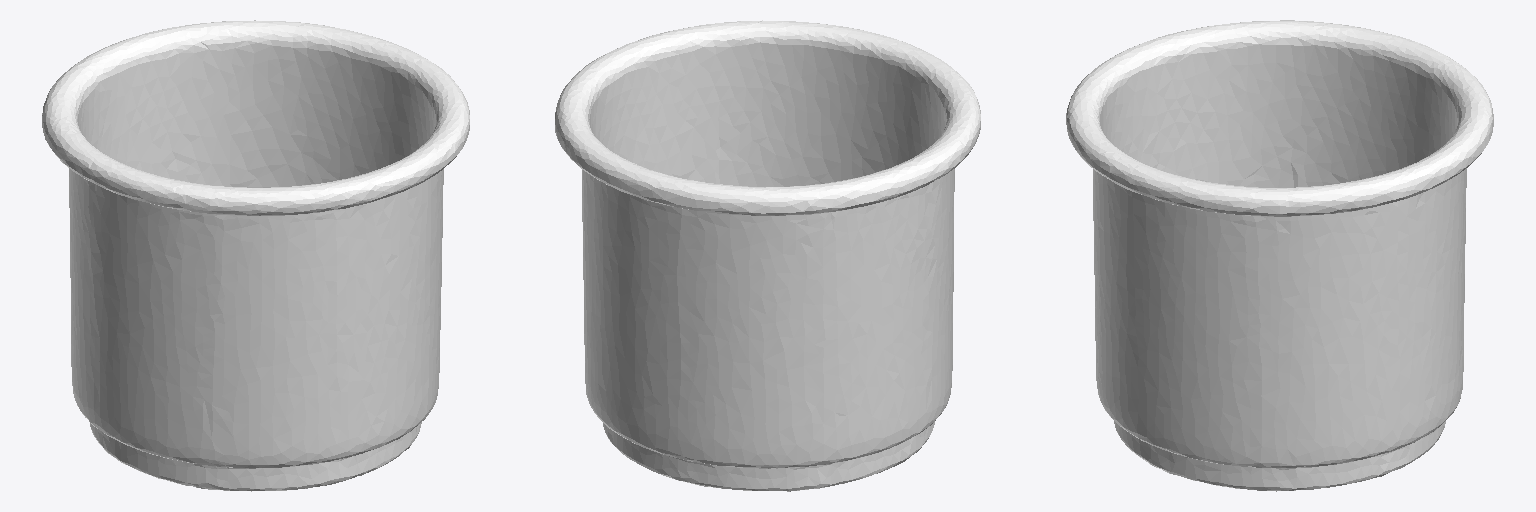
The robot description file, URDF, robot "002_master_chef_can":
<robot name="002_master_chef_can">
	<link name="_name">
		<visual>
			<origin xyz="0.1707072958296921 0.09762855837207728 -0.7058421978429177" rpy="0 0 0" />
			<geometry>
				<mesh filename="002_master_chef_can/google_16k/textured.obj" scale="10 10 10" />
			</geometry>
			<material name="texture">
				<color rgba="1.0 1.0 1.0 1.0" />
			</material>
		</visual>
		<collision>
			<geometry>
				<mesh filename="002_master_chef_can/google_16k/textured_vhacd.obj" scale="10 10 10" />
			</geometry>
		<origin xyz="0.1707072958296921 0.09762855837207728 -0.7058421978429177" rpy="0 0 0" /></collision>
		<inertial>
			<mass value="1.0" />
			<inertia ixx="1.0" ixy="0.0" ixz="0.0" iyy="1.0" iyz="0.0" izz="1.0" />
		</inertial>
	</link>
</robot>

--- What the picture shows (computed from the rendered views, not written in the file) ---
Views: 3 orthographic renders of the robot side by side, from view 1: azimuth 30°, elevation 25°; view 2: azimuth 150°, elevation 25°; view 3: azimuth 270°, elevation 25°.
Model 002_master_chef_can with 1 links and 0 joints (none), rooted at _name, posed all joints at 0.
Links seen in each view (by area): view 1: _name; view 2: _name; view 3: _name.
Link boxes in pixels (<box>): _name: <box>42,20,469,491</box>; _name: <box>555,20,980,491</box>; _name: <box>1066,20,1493,491</box>.
Size in the robot's own frame: 0.915 by 0.9162 by 0.7506 metres.
1 mesh visuals loaded from 1 distinct referenced files (1 OBJ).